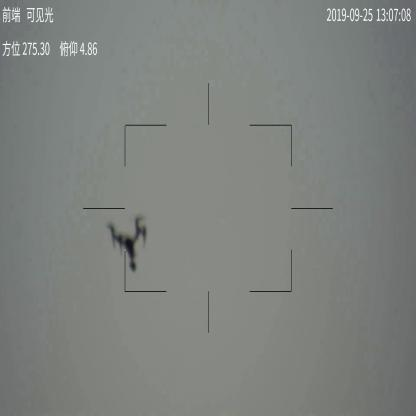uav: (106, 213, 152, 270)
